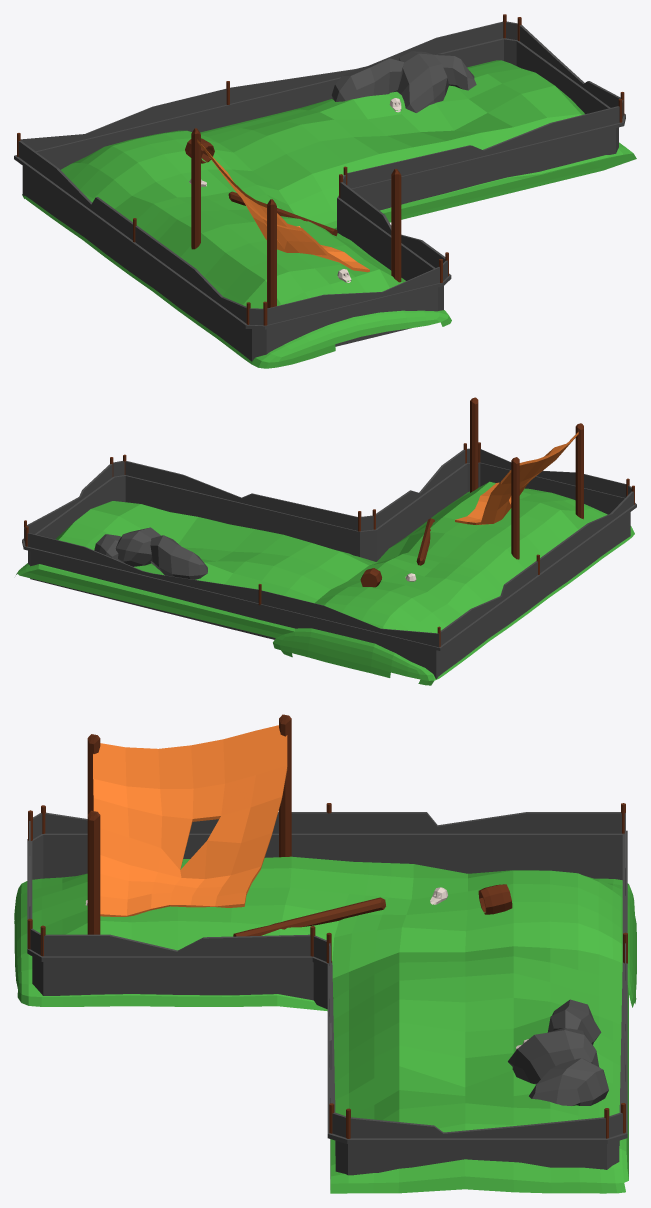
The model's file is Capybara_Level_0.fbx.
3 renders of one model, top to bottom at view 1: azimuth 30°, elevation 25°; view 2: azimuth 150°, elevation 25°; view 3: azimuth 270°, elevation 25°, orthographic. The views are drawn at different scales.
Visible parts, largest first — view 1: Ground.006; view 2: Ground.006; view 3: Ground.006.
Boxes of the visible parts, bbox=[...] form: Ground.006: bbox=[14, 14, 636, 368]; Ground.006: bbox=[16, 397, 636, 685]; Ground.006: bbox=[14, 714, 636, 1193].
Size of the model in its own units: 3072 by 953 by 2595.
